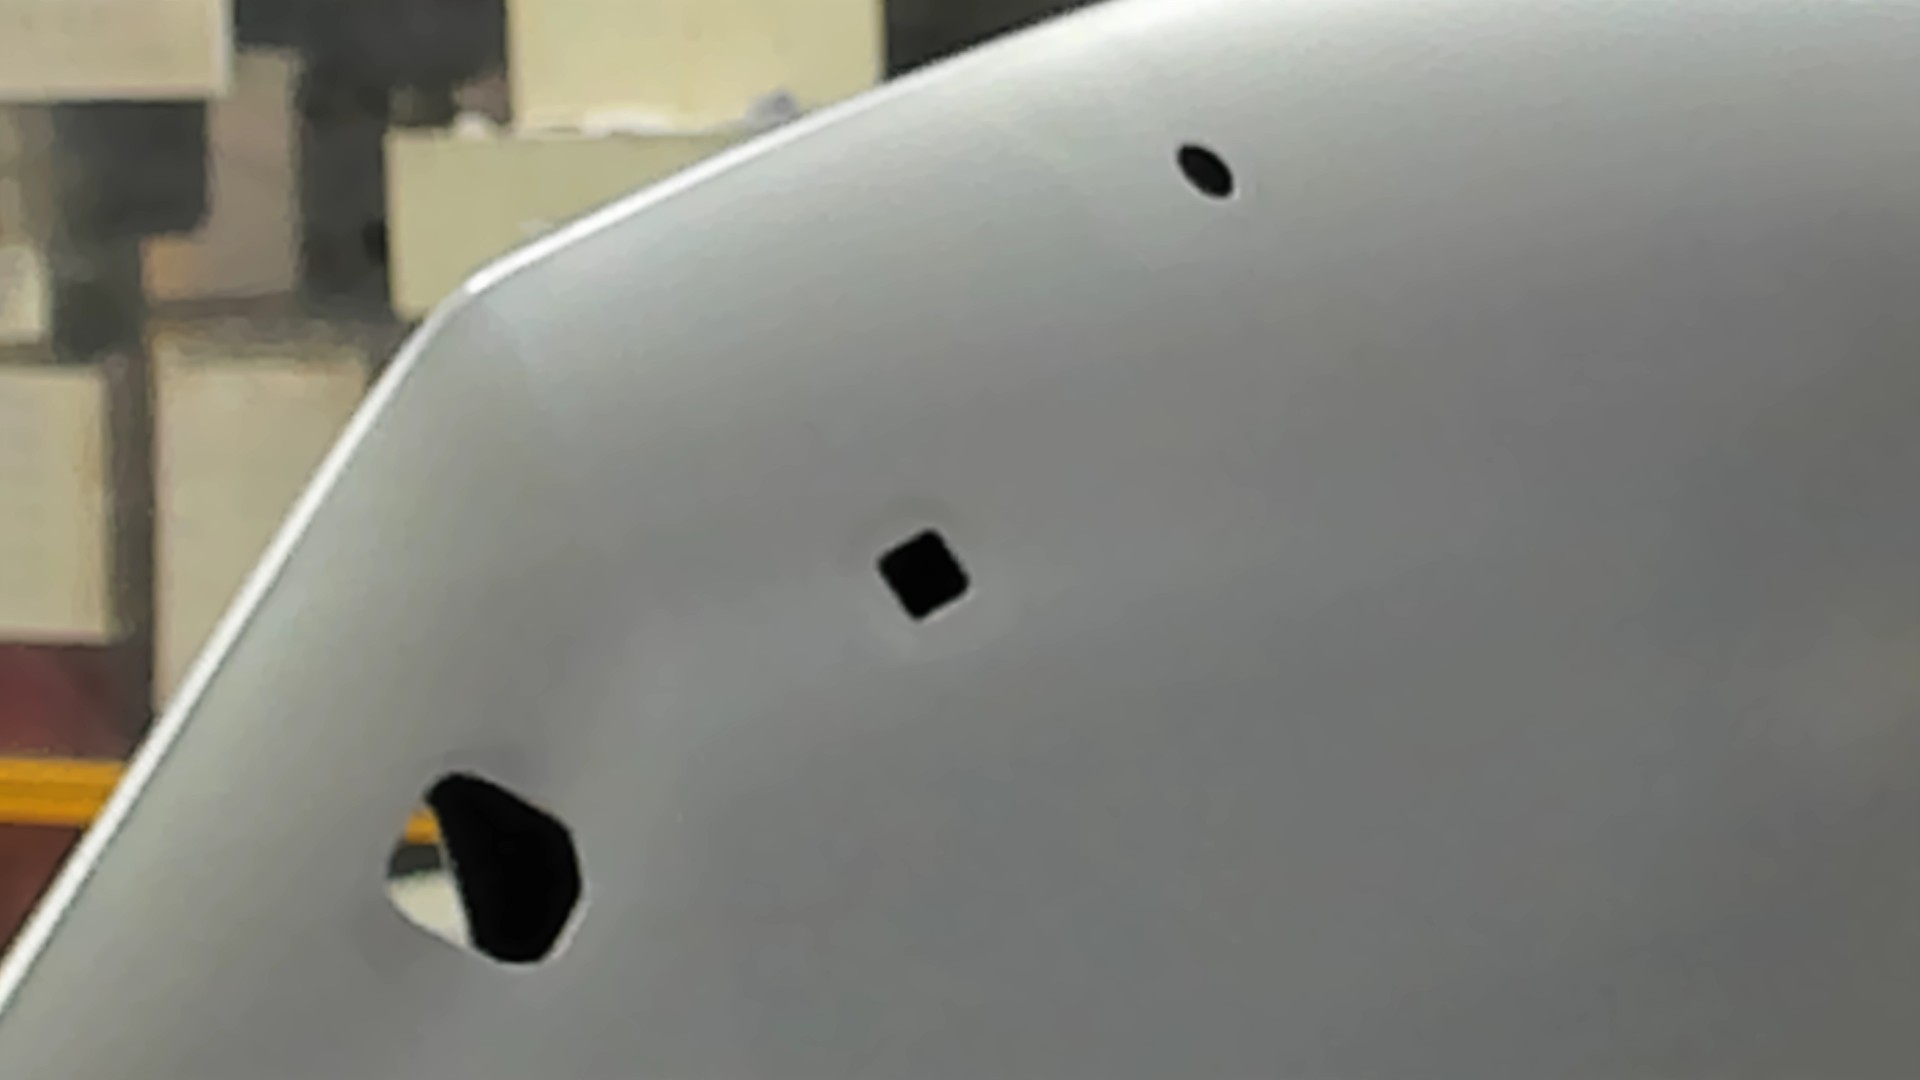chico: (1174, 138, 1241, 204)
grande: (380, 769, 593, 975)
mediano: (873, 527, 975, 626)
